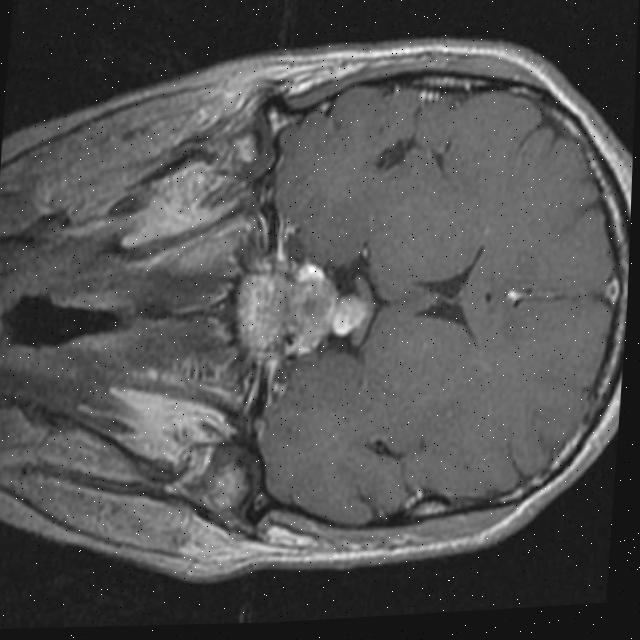Pituitary: (231, 257, 338, 362), (331, 292, 367, 337)
